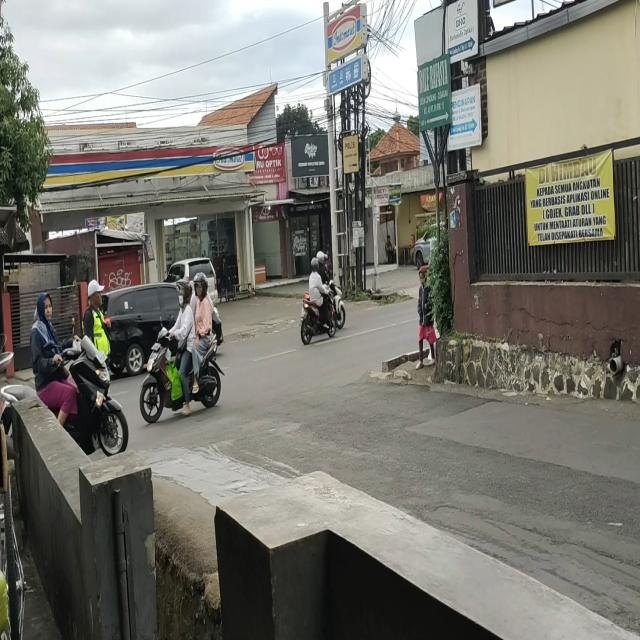helmet: (177, 278, 193, 308), (196, 272, 208, 302), (311, 257, 320, 275), (319, 250, 328, 267)
no-helmet: (32, 292, 53, 322)
